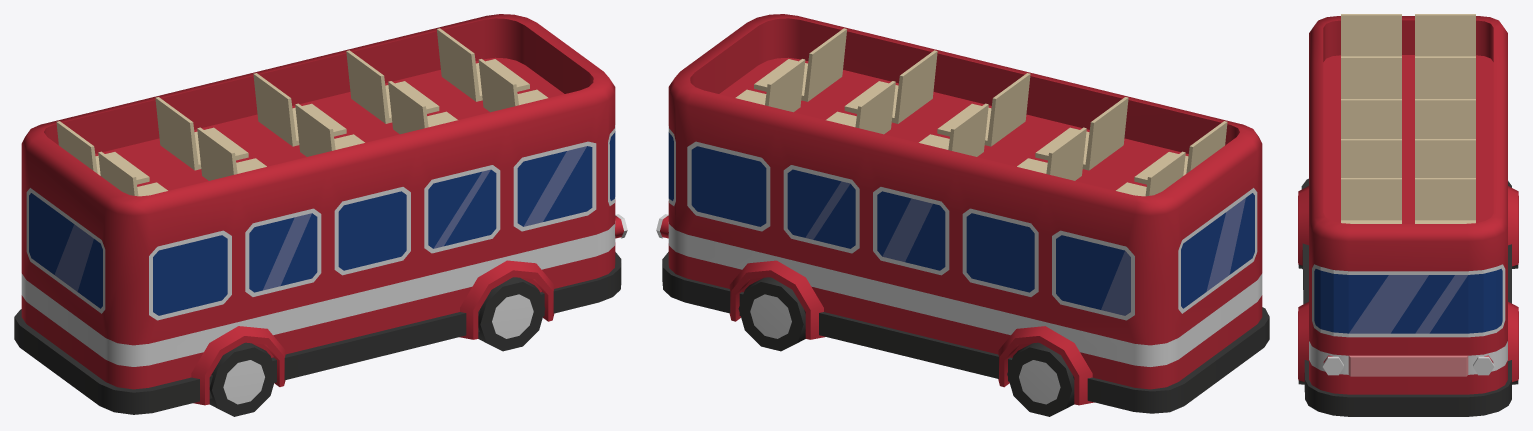
Rendered from bus_open.fbx.
3 views of the same model, side by side, from view 1: azimuth 30°, elevation 25°; view 2: azimuth 150°, elevation 25°; view 3: azimuth 270°, elevation 25° (orthographic). The views are drawn at different scales.
Visible parts, largest first — view 1: bus_open_color, bus_open, bus_wheel; view 2: bus_open_color, bus_open, bus_wheel; view 3: bus_open, bus_open_color.
Boxes of the visible parts, box(x1,y1,x2,y2) form: bus_open_color: box(21, 14, 623, 405); bus_open: box(14, 28, 627, 414); bus_wheel: box(209, 277, 545, 416); bus_open_color: box(660, 14, 1262, 405); bus_open: box(656, 28, 1269, 413); bus_wheel: box(738, 277, 1074, 416); bus_open: box(1301, 14, 1511, 416); bus_open_color: box(1298, 16, 1518, 394).
Bounding box in the file's own units: 25.49 × 11.33 × 10.57.
